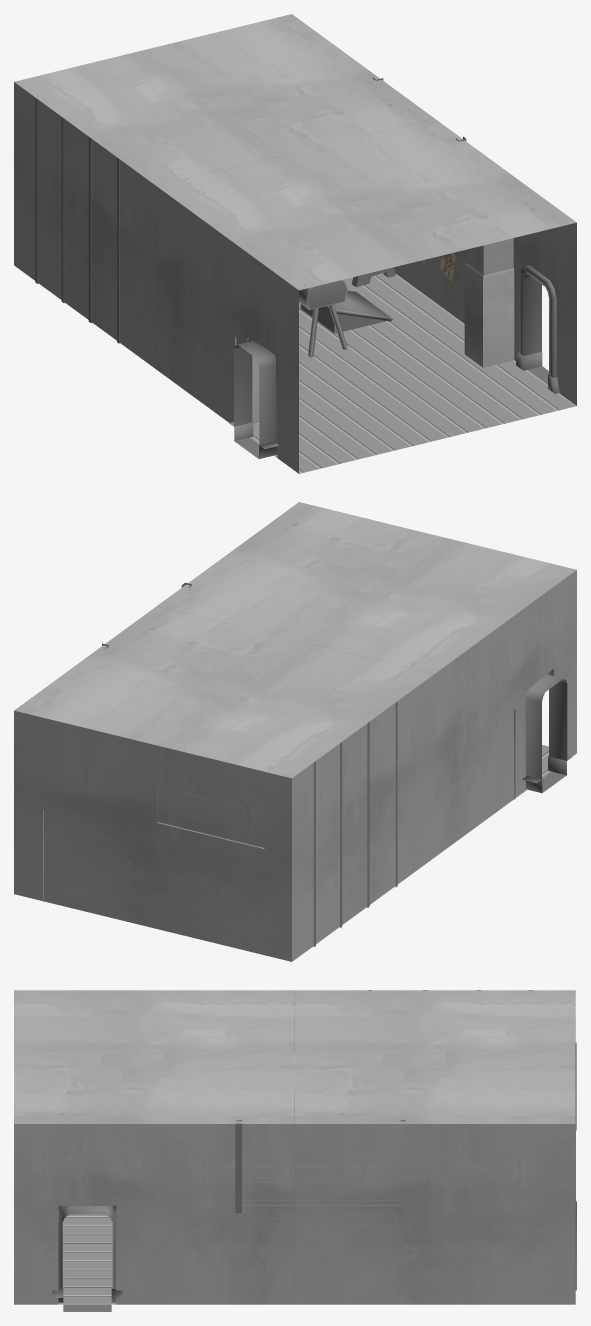
Rendered from MSH_Agility_room_L2_R1_optimized.fbx.
3 views of the same model, one above another, from view 1: azimuth 30°, elevation 25°; view 2: azimuth 150°, elevation 25°; view 3: azimuth 270°, elevation 25° (orthographic).
Parts seen in each view (by area): view 1: lightmap1, lightmap0, lightmap-1; view 2: lightmap1, lightmap-1, lightmap0; view 3: lightmap1, lightmap0, lightmap-1.
Part boxes in pixels (bbox=[...]): lightmap1: bbox=[14, 14, 576, 473]; lightmap0: bbox=[35, 78, 466, 357]; lightmap-1: bbox=[234, 274, 548, 458]; lightmap1: bbox=[14, 502, 576, 961]; lightmap-1: bbox=[525, 674, 567, 793]; lightmap0: bbox=[102, 583, 397, 947]; lightmap1: bbox=[14, 990, 576, 1304]; lightmap0: bbox=[235, 990, 576, 1212]; lightmap-1: bbox=[62, 1206, 112, 1311].
Bounding box in the file's own units: 10.3 × 5.94 × 16.56.
